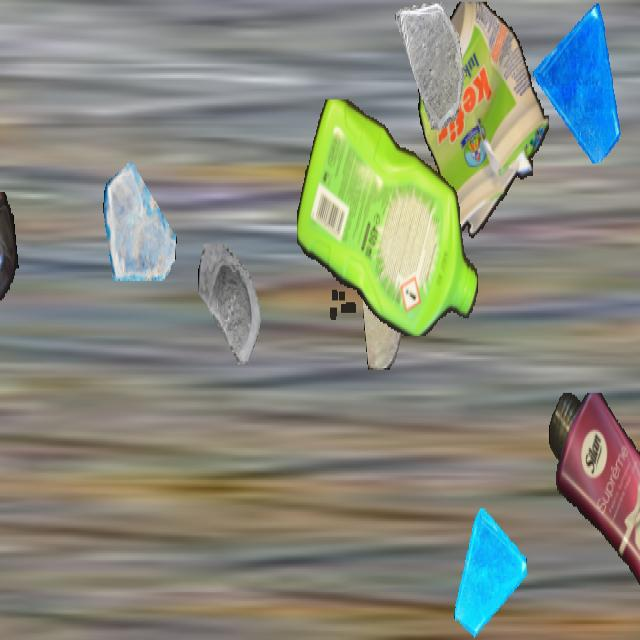glass: (533, 2, 623, 162), (197, 244, 273, 378), (103, 156, 177, 288), (452, 507, 526, 638), (395, 2, 467, 130)
plastic: (297, 100, 479, 334), (417, 2, 549, 247), (548, 393, 640, 638), (0, 192, 21, 441)
wood: (363, 238, 401, 370)
